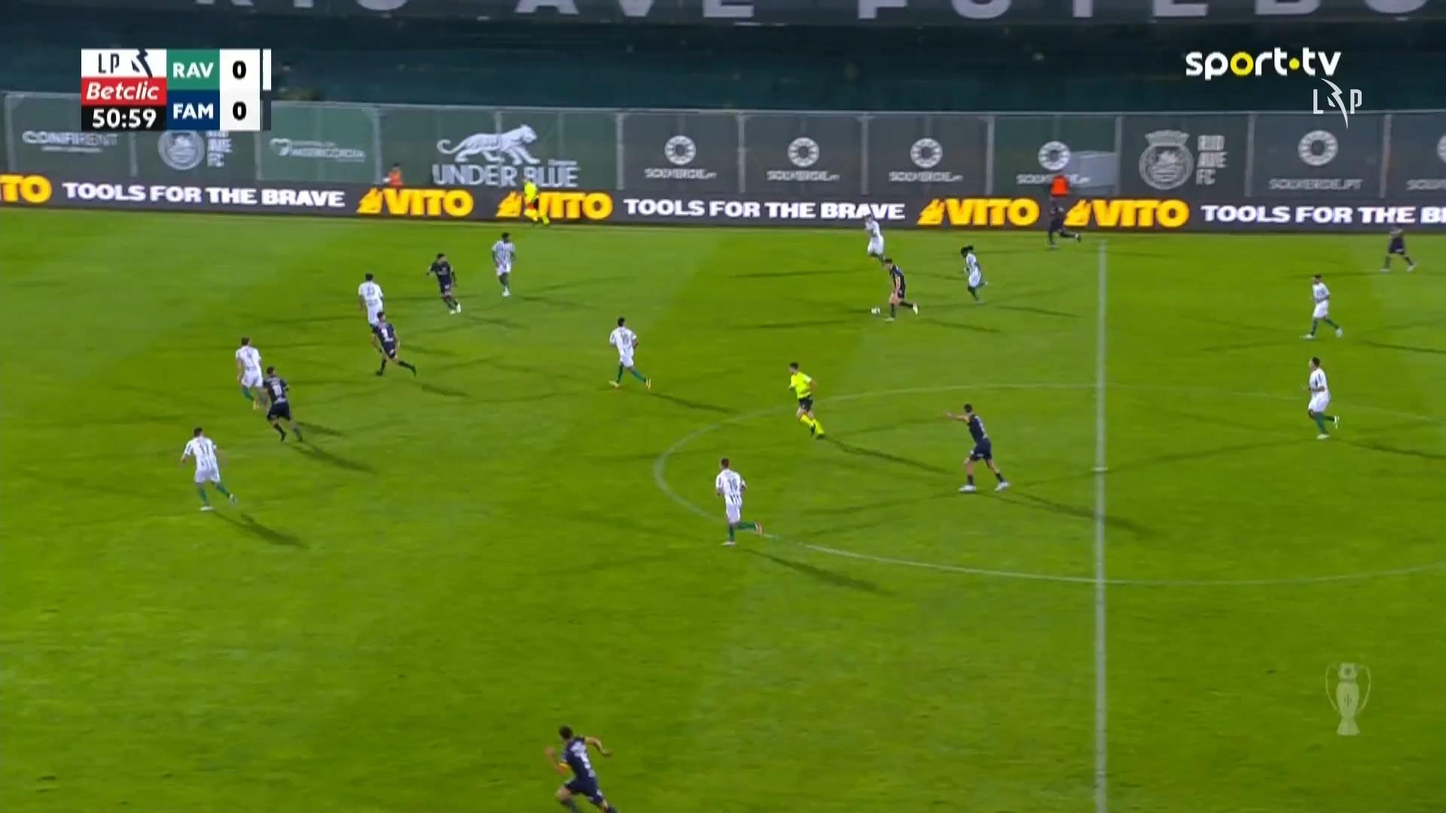ball: (871, 306, 880, 315)
player: (544, 723, 617, 811), (944, 402, 1010, 492), (180, 426, 237, 511), (714, 456, 762, 547), (607, 315, 651, 391), (261, 365, 303, 443), (370, 309, 416, 377), (1305, 355, 1340, 439), (1301, 273, 1342, 339), (880, 256, 919, 321), (356, 271, 386, 353), (234, 336, 266, 411), (426, 251, 462, 315), (1045, 197, 1081, 248), (1379, 225, 1416, 273), (490, 231, 516, 297), (959, 244, 988, 303), (862, 212, 886, 263)
referee: (786, 361, 825, 439), (520, 173, 550, 227)
